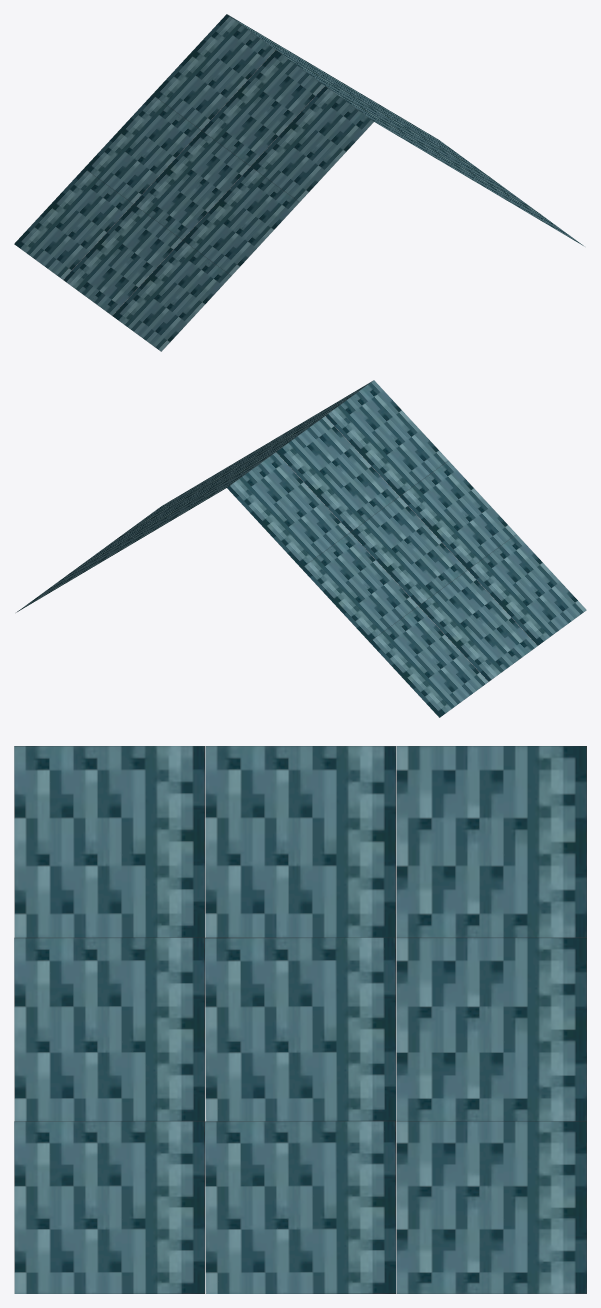
File: Roof_3x5_A.fbx
The picture shows the model from 3 angles, top to bottom: view 1: azimuth 30°, elevation 25°; view 2: azimuth 150°, elevation 25°; view 3: azimuth 270°, elevation 25°; orthographic projection. The views are drawn at different scales.
Visible parts, largest first — view 1: Roof_3x5; view 2: Roof_3x5; view 3: Roof_3x5.
Part boxes in pixels (x1=…): Roof_3x5: x1=14, y1=14, x2=584, y2=351; Roof_3x5: x1=16, y1=380, x2=586, y2=717; Roof_3x5: x1=14, y1=746, x2=586, y2=1293.
Bounding box in the file's own units: 300 × 500 × 200.
